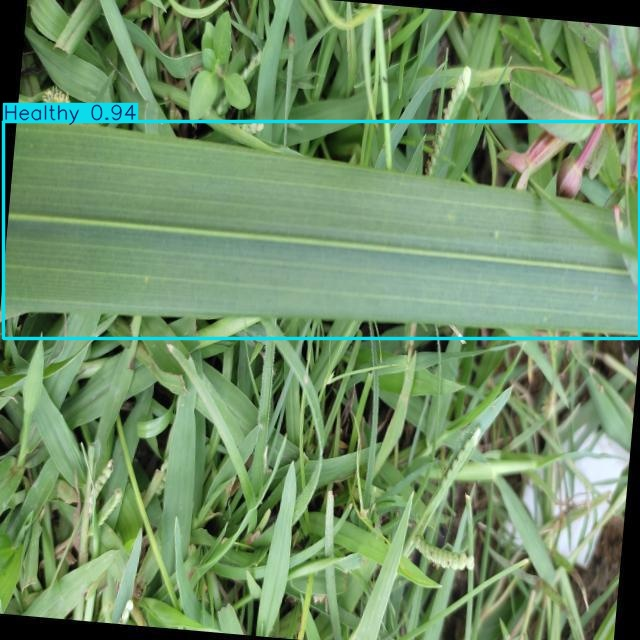Healthy: (3, 122, 639, 339)
